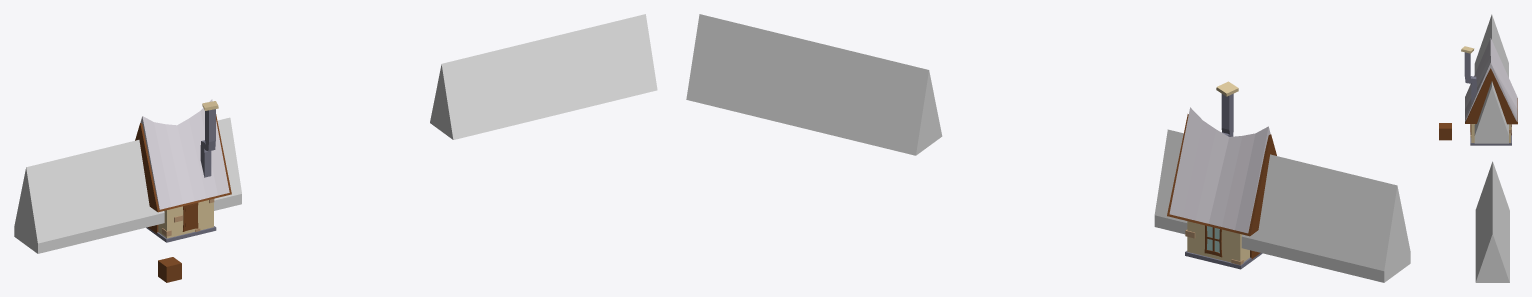
Rendered from HouseWhite.fbx.
3 views of the same model, side by side, from view 1: azimuth 30°, elevation 25°; view 2: azimuth 150°, elevation 25°; view 3: azimuth 270°, elevation 25° (orthographic). The views are drawn at different scales.
Parts seen in each view (by area): view 1: divider, Roof, UnderLayer, Base, divWindow.001, Pole; view 2: divider, Roof, UnderLayer, Base, Pole; view 3: divider, Roof, UnderLayer, Pole, divWindow.001, BaseConcrete, Base, PoleTop.
Boxes of the visible parts, <box> form: divider: <box>14,14,657,253</box>; Roof: <box>140,99,229,209</box>; UnderLayer: <box>135,114,231,212</box>; Base: <box>158,200,213,238</box>; divWindow.001: <box>158,203,196,282</box>; Pole: <box>200,109,215,177</box>; divider: <box>686,14,1410,282</box>; Roof: <box>1169,107,1270,233</box>; UnderLayer: <box>1167,114,1276,236</box>; Base: <box>1187,221,1249,262</box>; Pole: <box>1221,93,1233,136</box>; divider: <box>1474,14,1509,282</box>; Roof: <box>1465,38,1517,121</box>; UnderLayer: <box>1465,68,1517,124</box>; Pole: <box>1464,52,1476,103</box>; divWindow.001: <box>1439,123,1470,140</box>; BaseConcrete: <box>1470,126,1511,145</box>; Base: <box>1471,124,1510,142</box>; PoleTop: <box>1461,46,1474,53</box>.
Bounding box in the file's own units: 2635 × 609 × 397.
